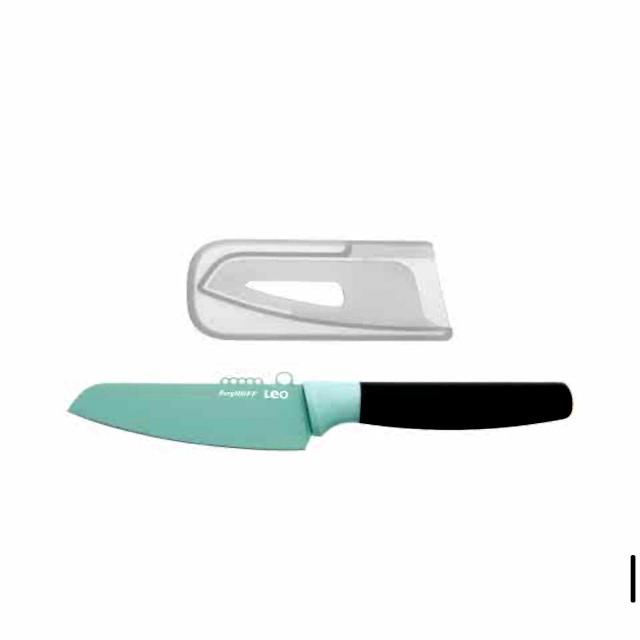knife: (54, 341, 599, 494)
